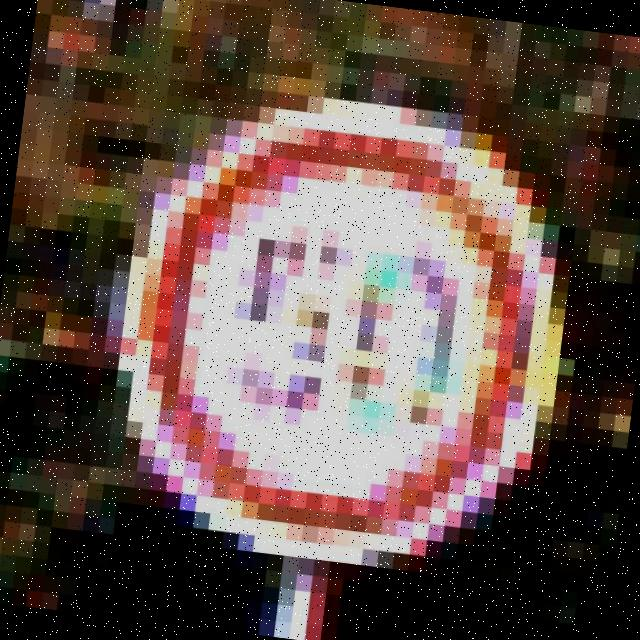Ograniczenie predkosci do 50: (123, 102, 554, 564)
